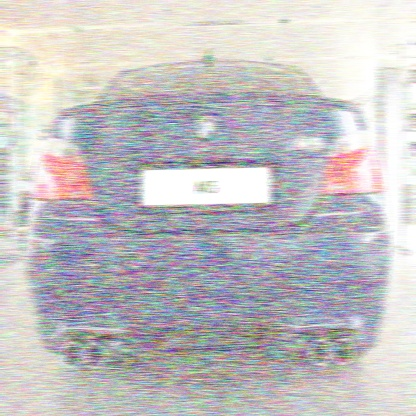Vehicle: (27, 50, 390, 366)
